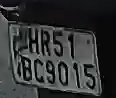0: (56, 61, 71, 89)
1: (71, 62, 84, 91), (68, 34, 79, 62)
5: (82, 63, 98, 93), (51, 31, 65, 60)
9: (46, 61, 56, 86)
B: (21, 55, 33, 84)
C: (34, 58, 45, 85)
H: (24, 26, 41, 57)
R: (40, 30, 52, 57)
